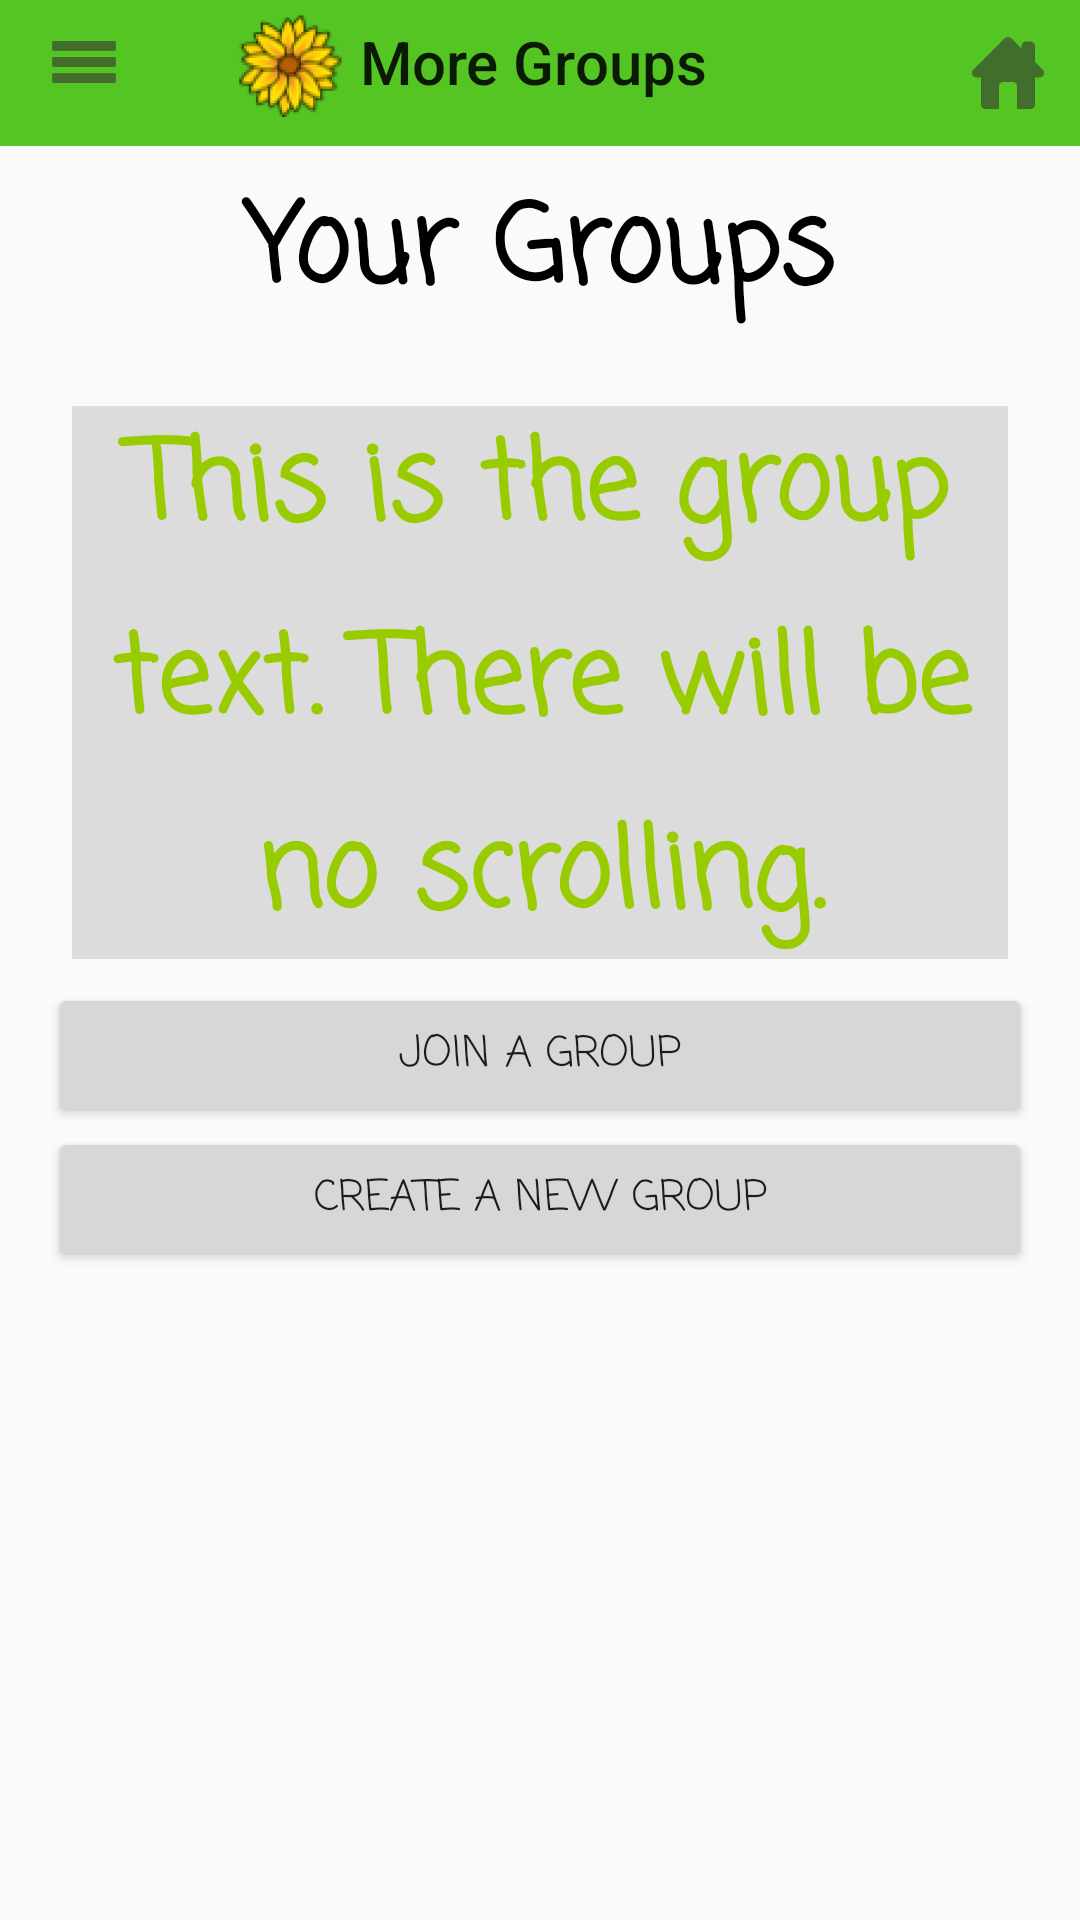

Named icons in this screenshot (1080 x 1920) and their bounding boxes, (x1, y1, x2, y2):
home: (972, 37, 1044, 109)
